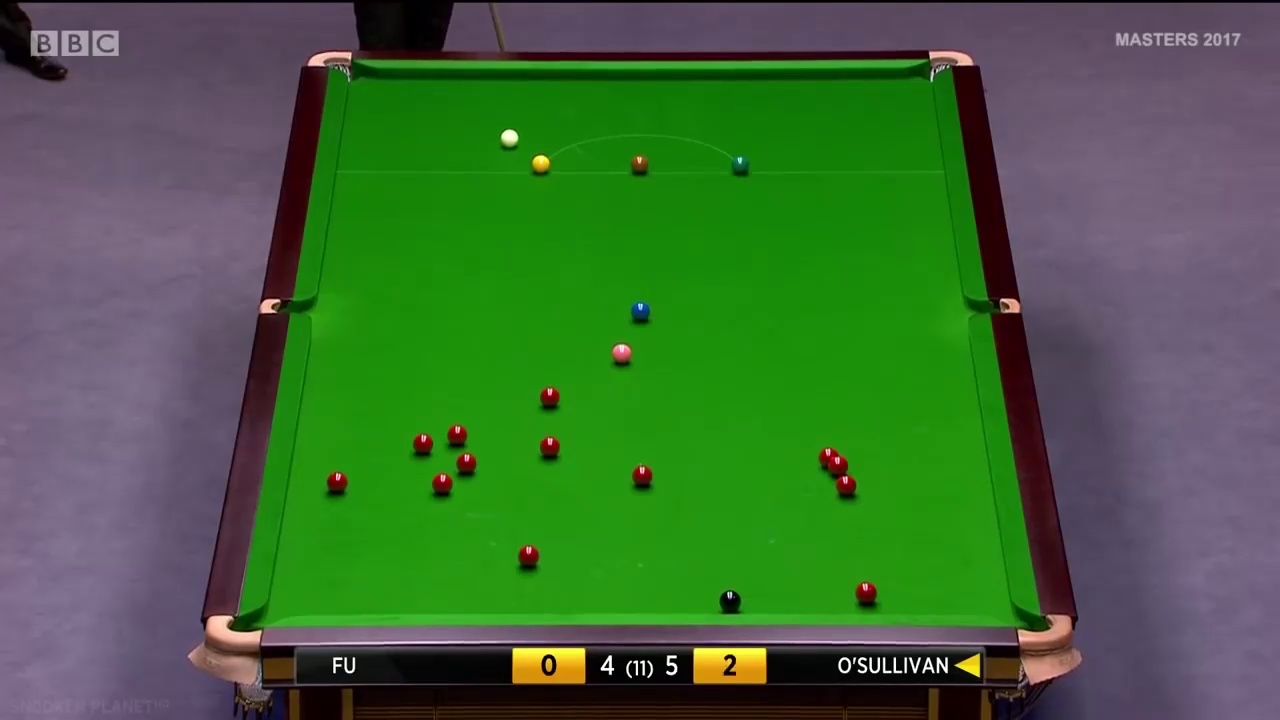ball: (323, 468, 349, 495), (609, 342, 634, 366), (853, 583, 877, 608), (412, 433, 435, 456), (429, 470, 452, 493), (536, 434, 559, 457), (516, 544, 539, 567), (527, 154, 551, 176), (631, 462, 652, 487), (727, 155, 751, 176), (447, 425, 468, 448), (537, 388, 562, 407), (835, 474, 856, 496), (631, 150, 648, 174), (630, 303, 650, 323), (498, 127, 517, 148)
